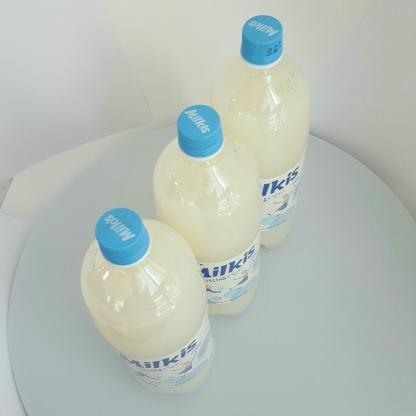-----1-5L: (80, 208, 216, 393), (210, 15, 310, 249), (153, 105, 263, 316)
